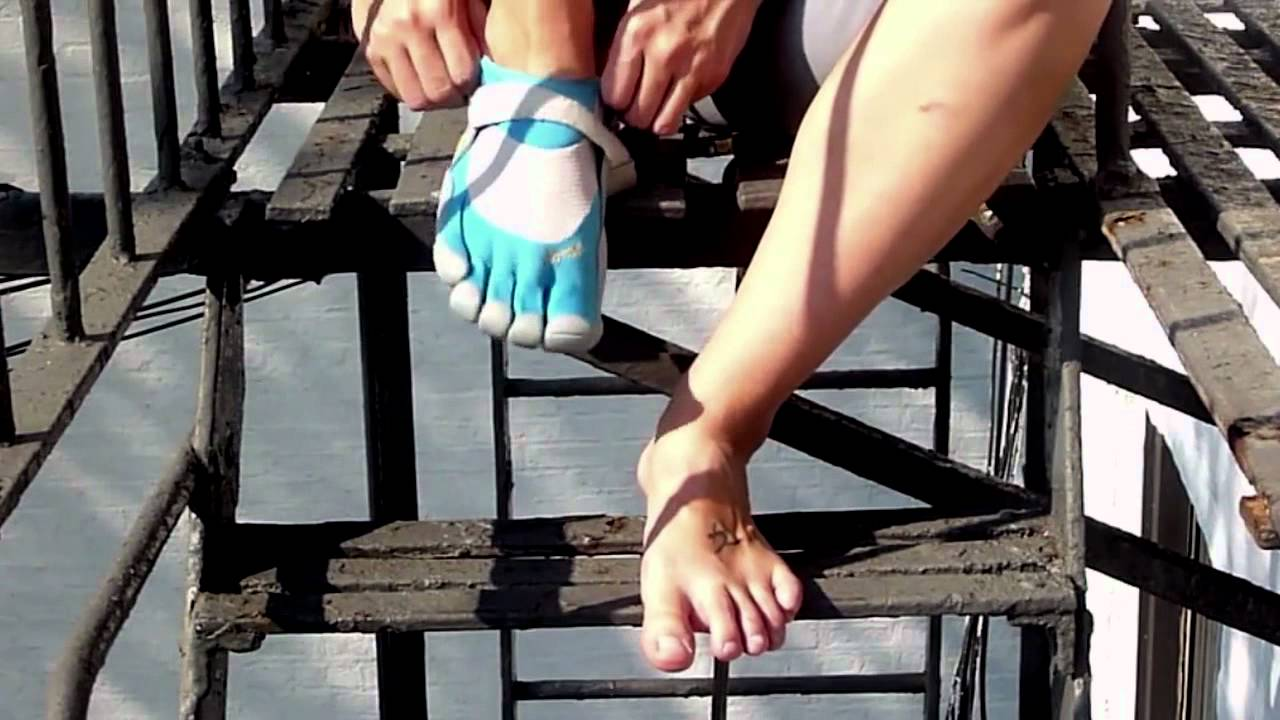finger: (617, 75, 672, 128), (651, 81, 700, 139), (411, 48, 464, 97), (438, 26, 485, 80), (391, 54, 430, 115), (598, 50, 635, 104)
